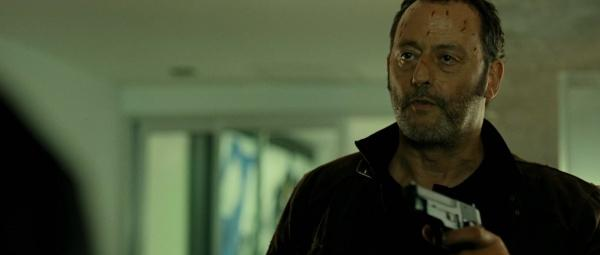Gun: (401, 180, 484, 240)
